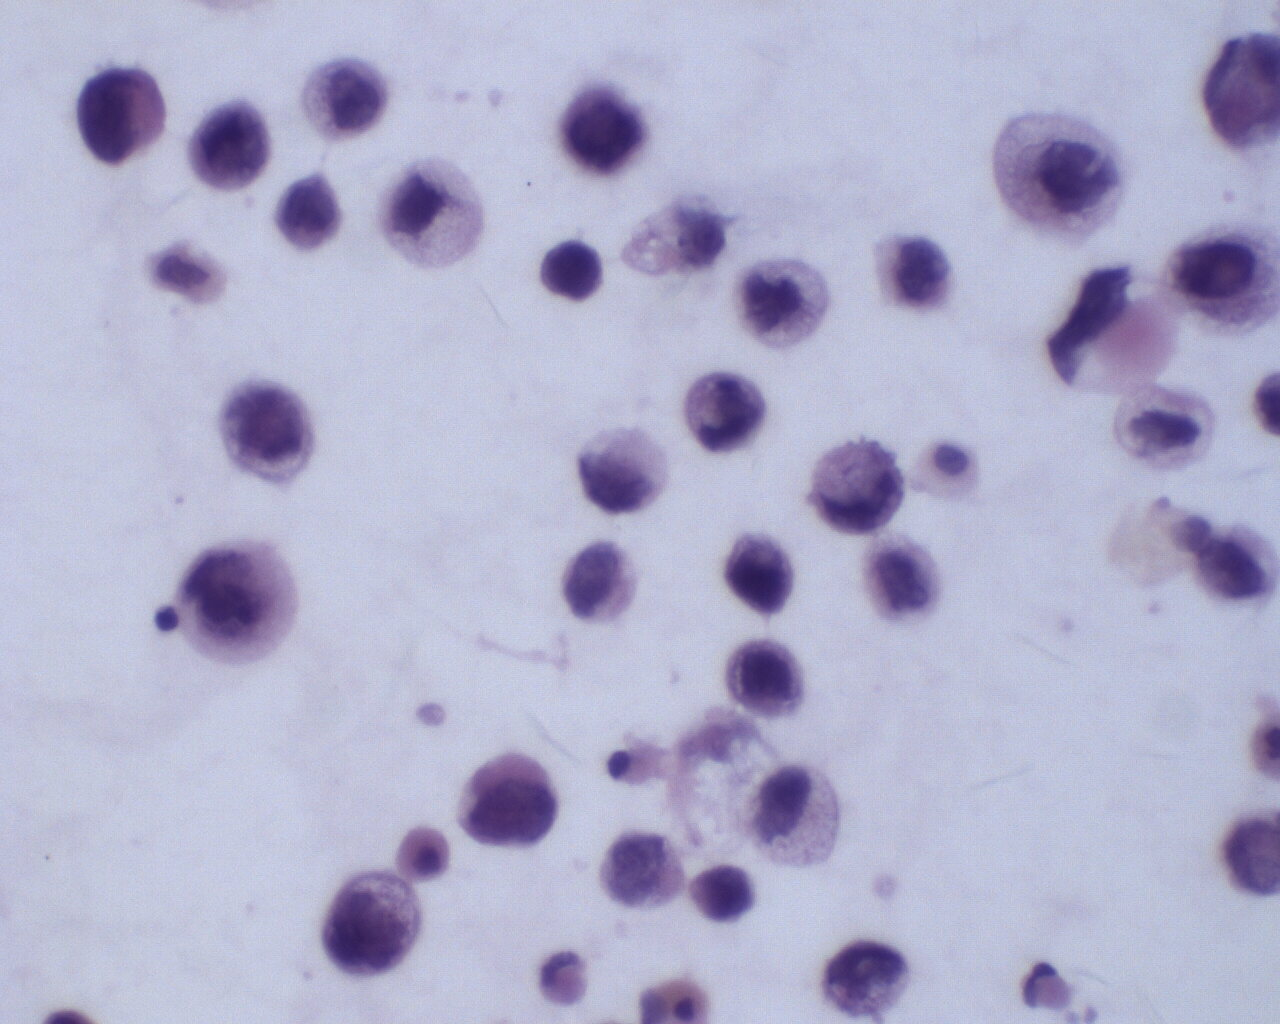ab: (990, 104, 1133, 243), (173, 540, 304, 675), (1159, 219, 1280, 343), (313, 867, 421, 987), (212, 372, 318, 489), (453, 749, 566, 853), (68, 59, 167, 171), (801, 432, 907, 537), (732, 253, 835, 355), (553, 78, 652, 182), (183, 93, 274, 199), (672, 365, 772, 458), (301, 53, 394, 147), (817, 934, 920, 1018), (868, 227, 959, 316), (722, 634, 808, 725), (272, 169, 346, 259), (724, 528, 797, 618), (691, 861, 763, 930), (534, 237, 605, 303)
meso: (909, 435, 984, 506), (394, 822, 450, 882)
